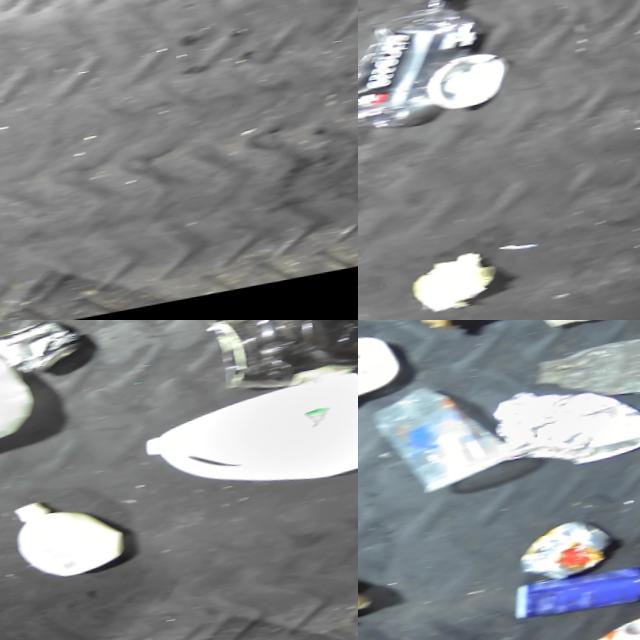can: (514, 523, 618, 591), (0, 320, 86, 378)
milk_jug: (139, 370, 358, 513), (0, 323, 41, 457)
non_white_jug: (204, 320, 358, 404)
plastic_bottle: (358, 0, 506, 146), (529, 336, 640, 414)
